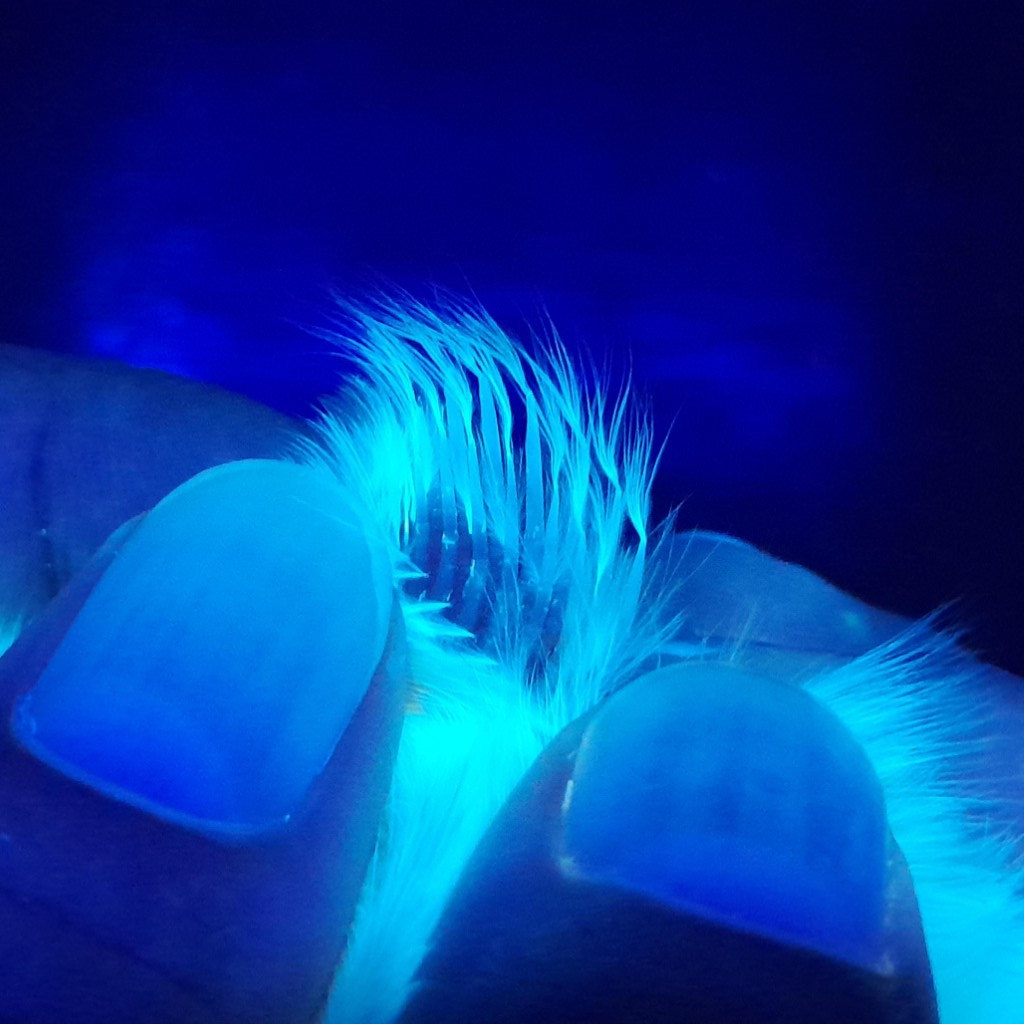female: (375, 349, 673, 738)
